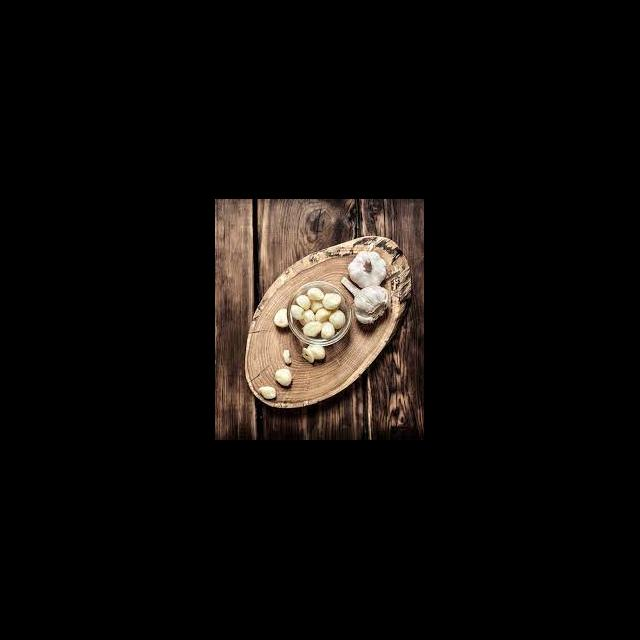garlic: (298, 296, 340, 332)
